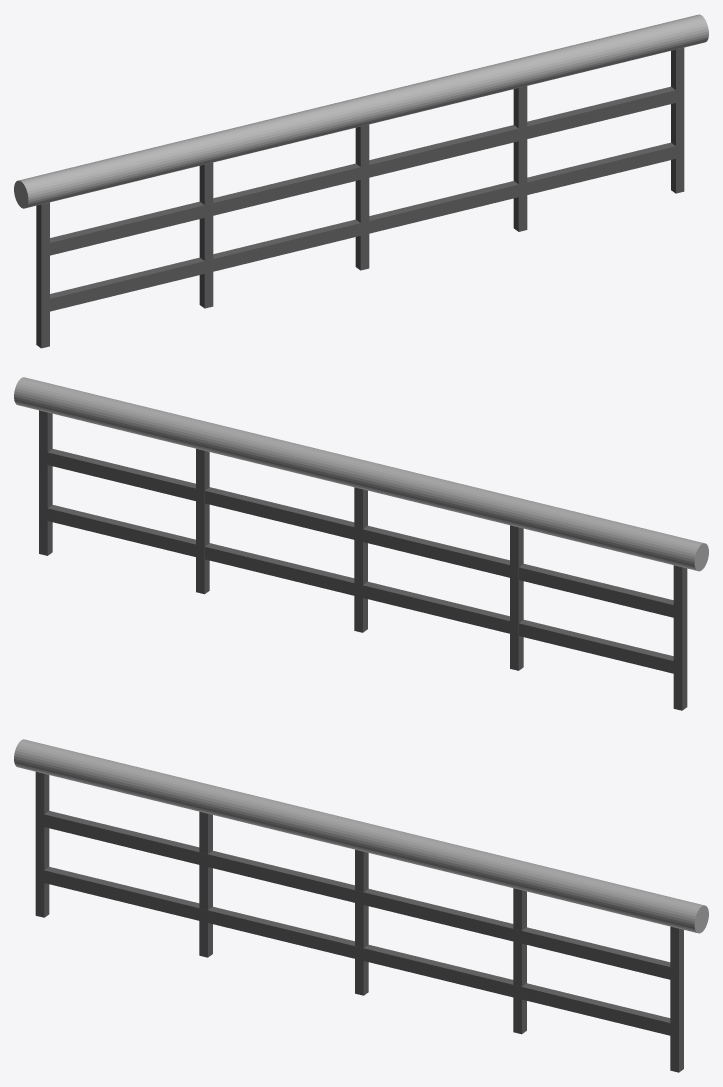
File: Baranda3Unity.fbx
3 views of the same model, one above another, from view 1: azimuth 30°, elevation 25°; view 2: azimuth 150°, elevation 25°; view 3: azimuth 330°, elevation 25° (orthographic).
Parts seen in each view (by area): view 1: Baranda.012; view 2: Baranda.012; view 3: Baranda.012.
Part boxes in pixels (<box>): Baranda.012: <box>14,14,708,348</box>; Baranda.012: <box>14,377,708,710</box>; Baranda.012: <box>14,739,708,1072</box>.
Bounding box in the file's own units: 788 × 187 × 28.89.
Materials: 1 (1 with a texture image).
